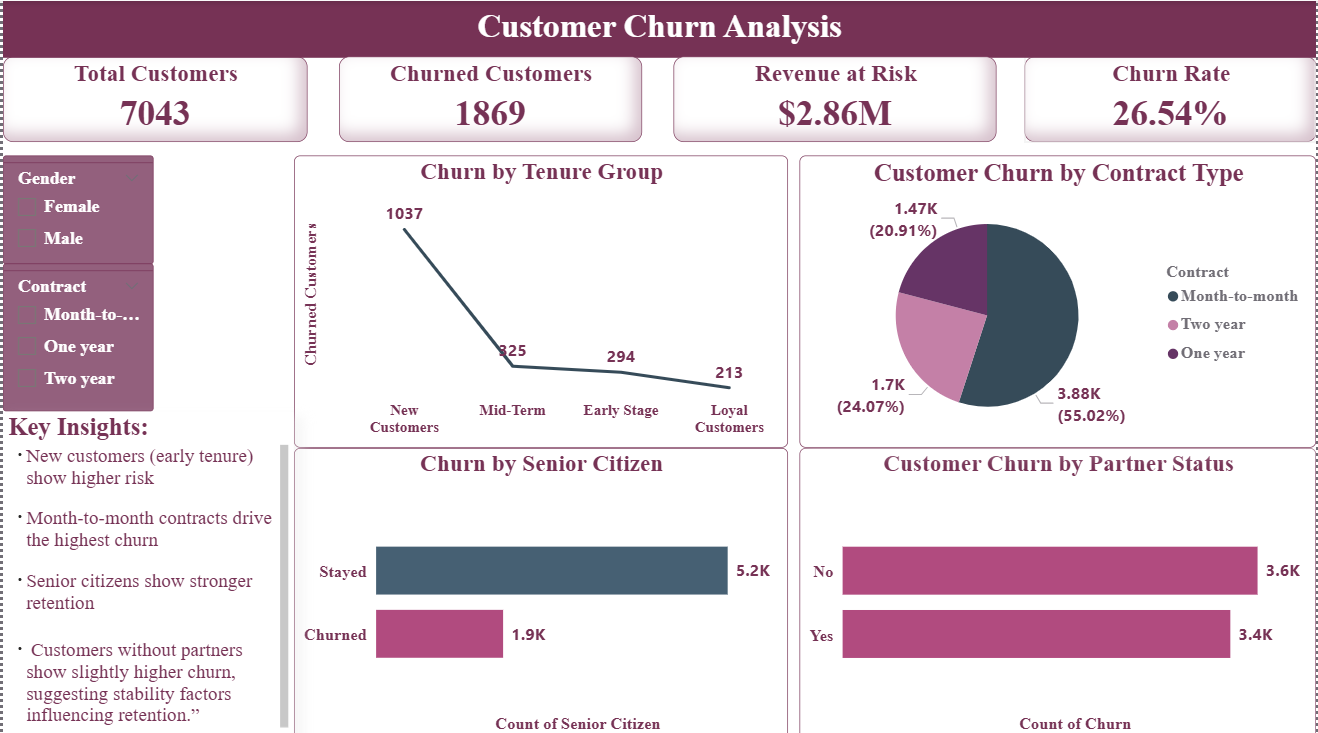

What the dashboard file says about the page in this screenshot:
{"tool":"powerbi","page":{"name":"Page 1","canvas":[1280,720],"ordinal":0},"visuals":[{"type":"card","title":"Total Customers","fields":{"Values":["Count(telco.Customer_ID)"]},"box":[0,54.5,296.8,83.3],"z":0},{"type":"card","title":"Churn Rate","fields":{"Values":["telco.Correct Percentage"]},"box":[994.8,54.5,284.7,83.3],"z":1000},{"type":"textbox","box":[0,0,1279.4,55.1],"z":2000},{"type":"slicer","fields":{"Values":["telco.Gender"]},"box":[0,149.9,146.9,106],"z":3000},{"type":"slicer","fields":{"Values":["telco.Contract"]},"box":[0,255.9,146.9,143.8],"z":4000},{"type":"barChart","title":" Churn by Senior Citizen","fields":{"Category":["telco.Churn"],"Y":["CountNonNull(telco.Senior Citizen)"]},"box":[283.1,435.6,481.4,284.7],"z":5000},{"type":"clusteredBarChart","title":"Customer Churn by Partner Status","fields":{"Category":["telco.Partner"],"Y":["CountNonNull(telco.Churn)"]},"box":[775.6,435.6,503.6,285],"z":6000},{"type":"pieChart","title":"Customer Churn by Contract Type","fields":{"Y":["CountNonNull(telco.Churn)"],"Category":["telco.Contract"]},"box":[775.6,150.6,503.6,285],"z":7000},{"type":"lineChart","title":"Churn by Tenure Group","fields":{"Category":["telco.Tenure Group"],"Y":["telco.Churned Customers"]},"box":[283.1,150.8,481.4,284.7],"z":8000},{"type":"textbox","title":"Key Insights:","box":[0,400,283.1,320.3],"z":9000},{"type":"card","title":"Churned Customers","fields":{"Values":["telco.Churned Customers"]},"box":[327.1,54.5,295.3,83.3],"z":10000},{"type":"card","title":"Revenue at Risk","fields":{"Values":["telco.Revenue at Risk"]},"box":[652.6,54.5,315,83.3],"z":11000}]}

Visuals, with their boxes in screenshot pixels (x1, y1, x2, y2), scaled from the page's 1280x720 canvas onto the 1318x733 screenshot:
"Total Customers" card: [0, 55, 306, 140]
"Churn Rate" card: [1024, 55, 1317, 140]
textbox: [0, 0, 1317, 56]
slicer - telco.Gender: [0, 153, 151, 261]
slicer - telco.Contract: [0, 261, 151, 407]
" Churn by Senior Citizen" barChart: [292, 443, 787, 732]
"Customer Churn by Partner Status" clusteredBarChart: [799, 443, 1317, 732]
"Customer Churn by Contract Type" pieChart: [799, 153, 1317, 443]
"Churn by Tenure Group" lineChart: [292, 154, 787, 443]
"Key Insights:" textbox: [0, 407, 292, 732]
"Churned Customers" card: [337, 55, 641, 140]
"Revenue at Risk" card: [672, 55, 996, 140]
